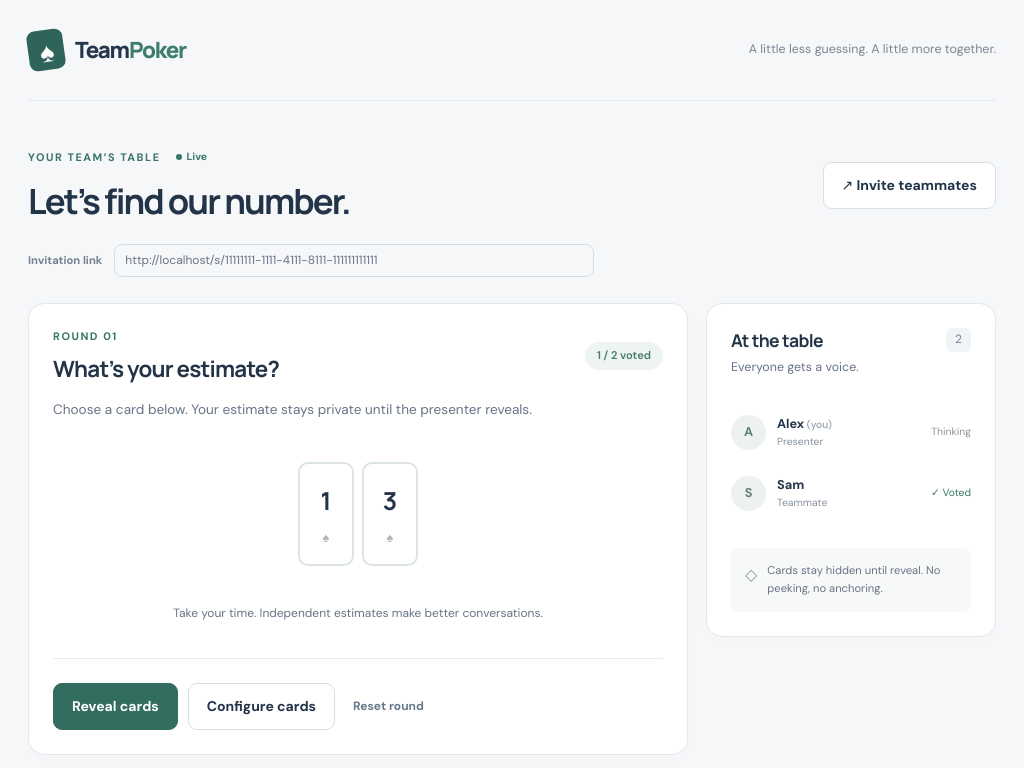
it: session interface › votes, changes vote, reveals results and clears votes in a new round
Expected: the heading "What’s your estimate?" is shown, [53, 354, 279, 383]
Click the button "1 ♠".
click(326, 514)  # box [298, 462, 354, 566]
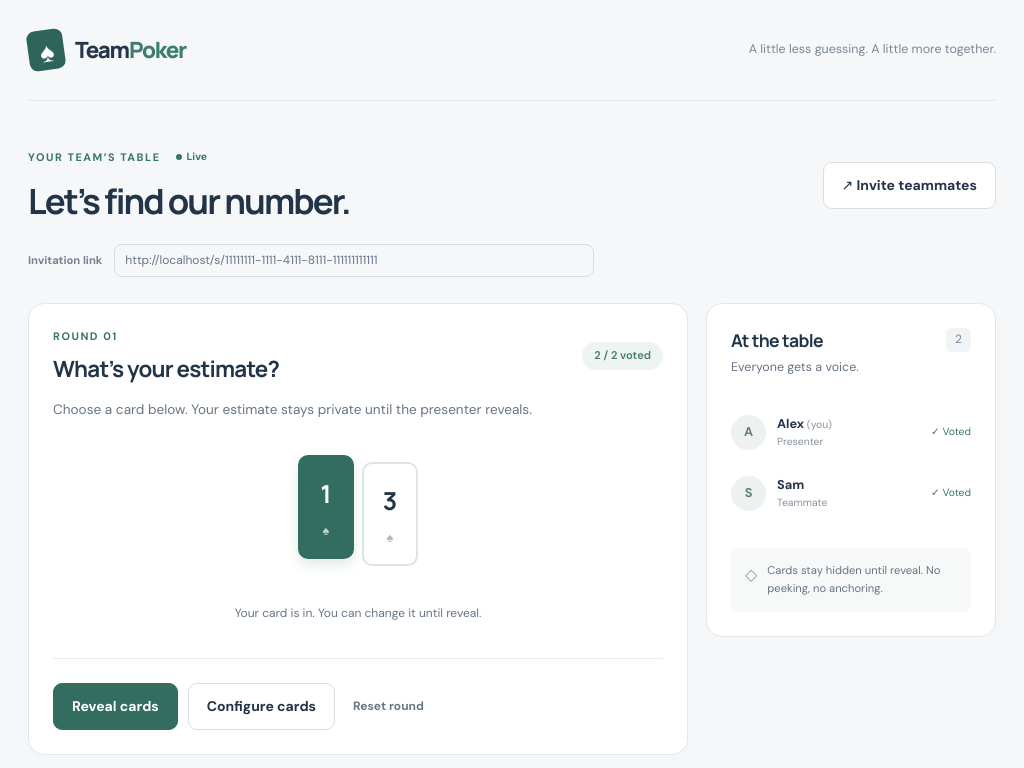
Expected: the text "Your card is in. You can change it until reveal." is shown, [235, 605, 481, 621]
Click the button "3 ♠".
click(390, 514)  # box [362, 462, 418, 566]
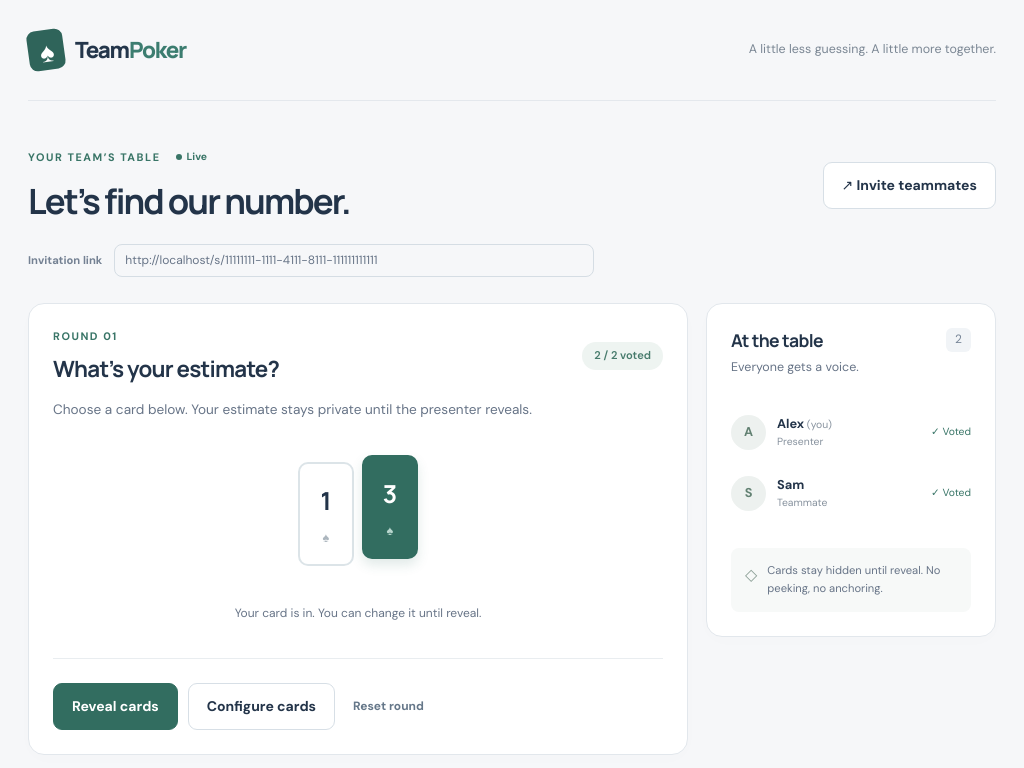
Click the button "Reveal cards".
click(115, 706)  # box [53, 683, 178, 730]
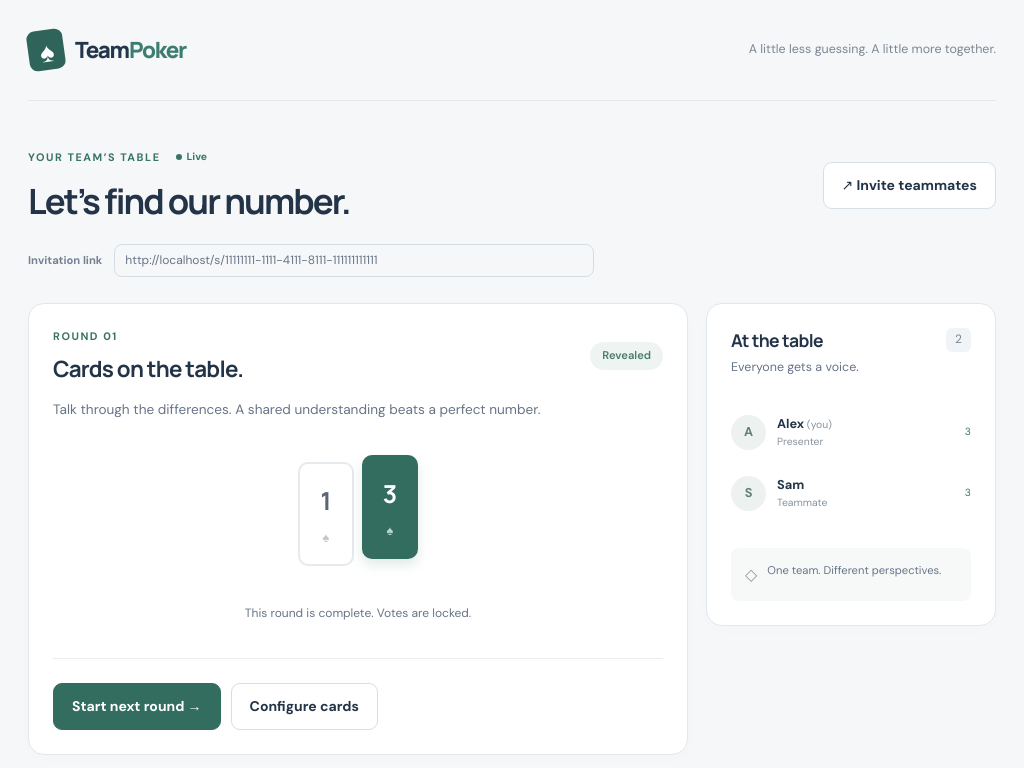
Expected: the button "3 ♠" is disabled, [362, 455, 418, 559]
Expected: the heading "Cards on the table." is shown, [53, 354, 243, 383]
Click the button "Start next round →".
click(137, 706)  # box [53, 683, 221, 730]
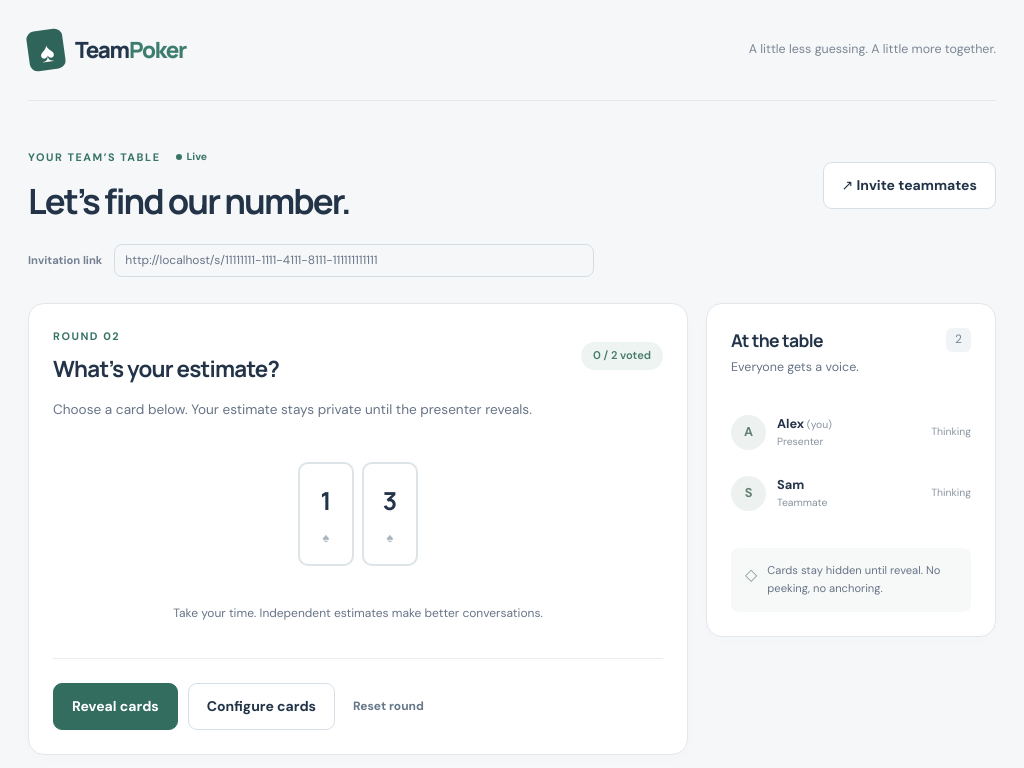
Expected: the text "Round 02" is shown, [53, 329, 120, 343]
Expected: the text "0 / 2 voted" is shown, [581, 342, 663, 370]
